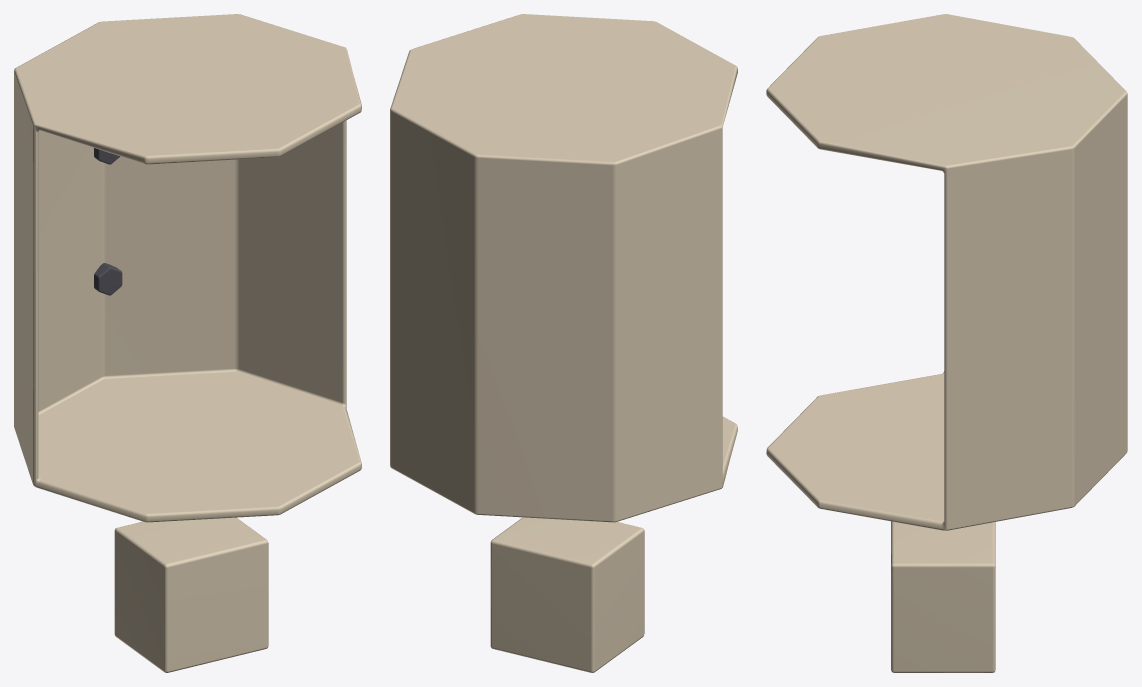
The model's file is kitbash_shell_arm_right_001_lower.glb.
3 renders of one model, left to right at view 1: azimuth 30°, elevation 25°; view 2: azimuth 150°, elevation 25°; view 3: azimuth 270°, elevation 25°, orthographic.
Visible parts, largest first — view 1: SHELL_armR_lo; view 2: SHELL_armR_lo; view 3: SHELL_armR_lo.
Boxes of the visible parts, left/top/right/bottom form: SHELL_armR_lo: left=14, top=14, right=361, bottom=672; SHELL_armR_lo: left=390, top=14, right=737, bottom=672; SHELL_armR_lo: left=766, top=14, right=1127, bottom=672.
Bounding box in the file's own units: 0.4498 × 0.767 × 0.448.
